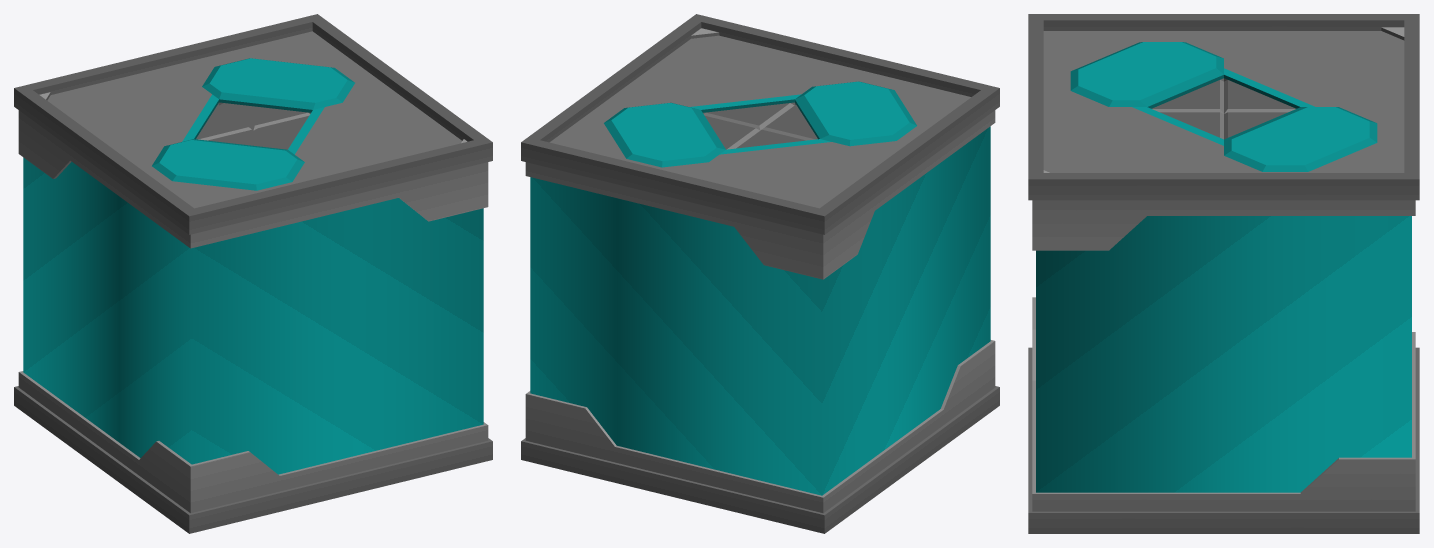
The model's file is Bubble Tank.fbx.
3 renders of one model, left to right at view 1: azimuth 30°, elevation 25°; view 2: azimuth 150°, elevation 25°; view 3: azimuth 270°, elevation 25°, orthographic. The views are drawn at different scales.
Parts seen in each view (by area): view 1: Cube.001; view 2: Cube.001; view 3: Cube.001.
Boxes of the visible parts, box(x1,y1,x2,y2) form: Cube.001: box(14, 14, 492, 533); Cube.001: box(521, 14, 999, 533); Cube.001: box(1028, 14, 1419, 533).
Size of the model in its own units: 1020 by 1020 by 1020.
